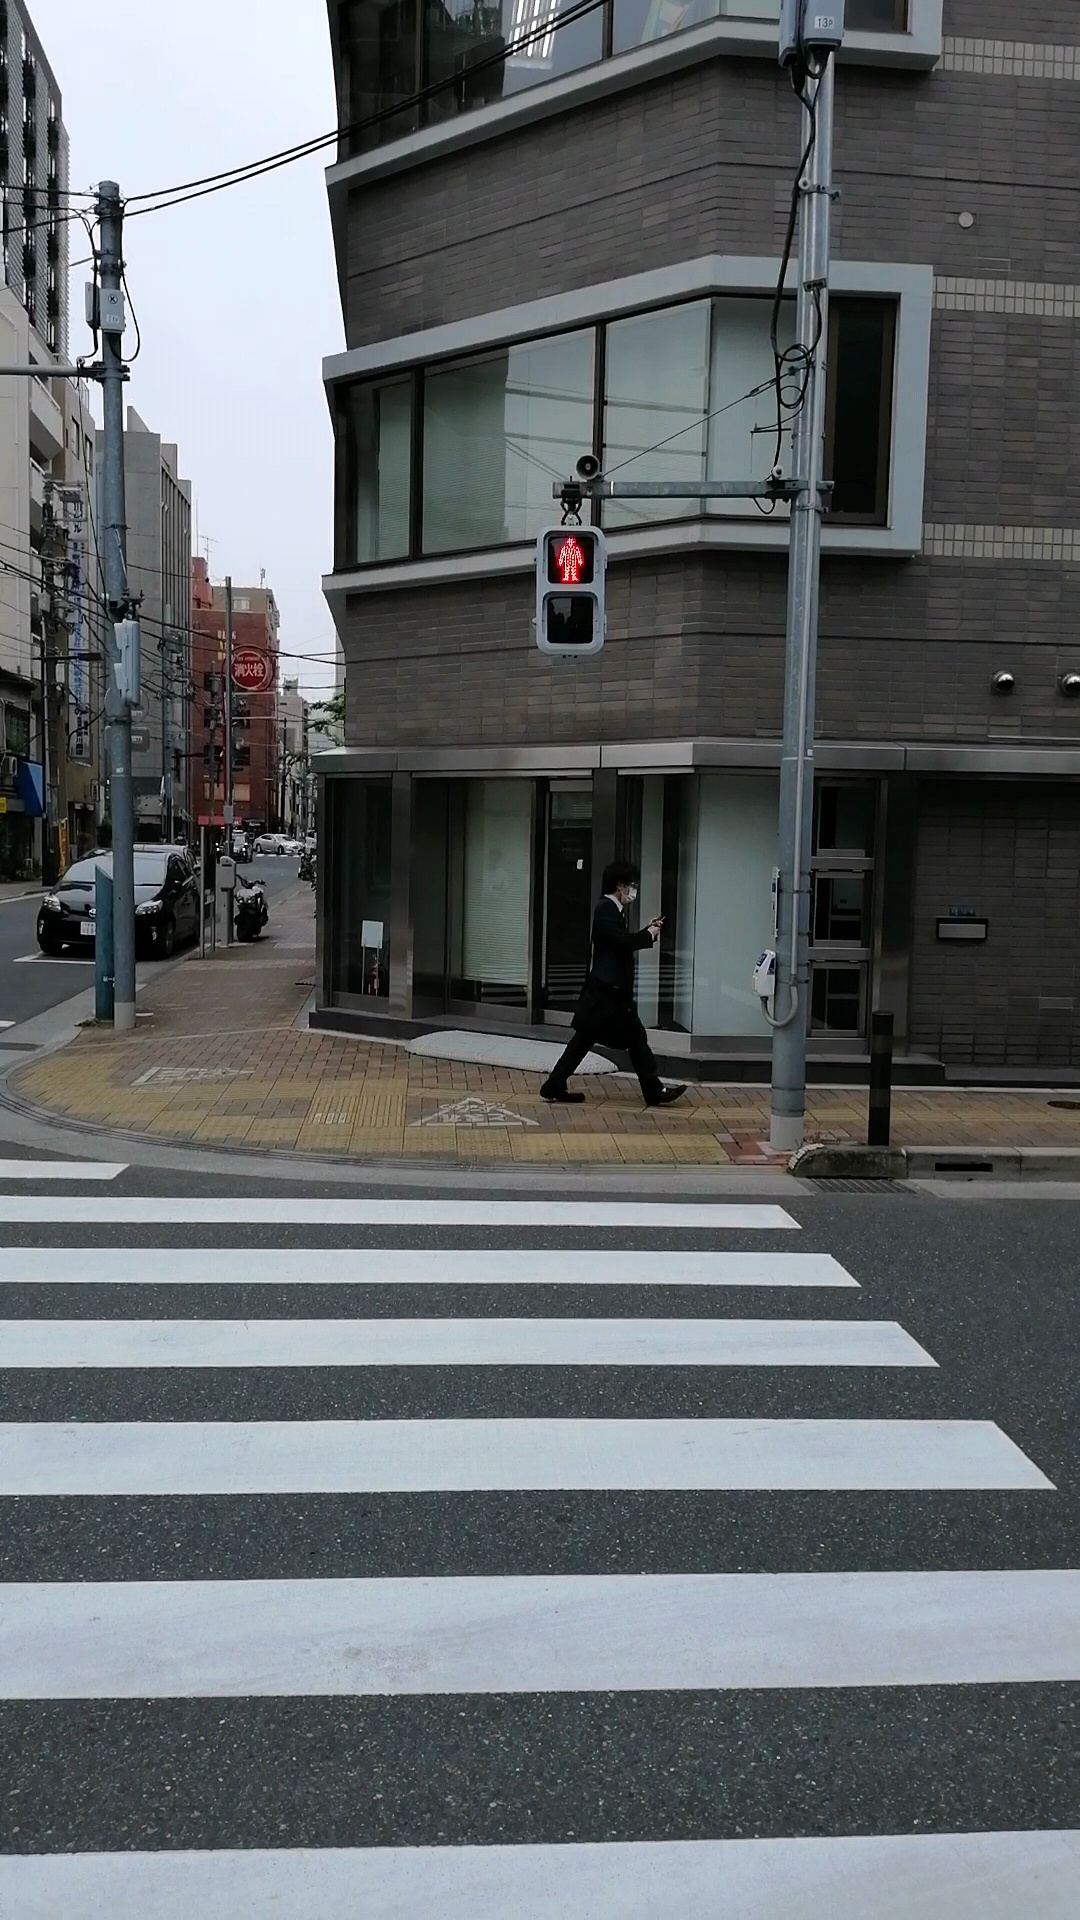red: (535, 526, 607, 654)
